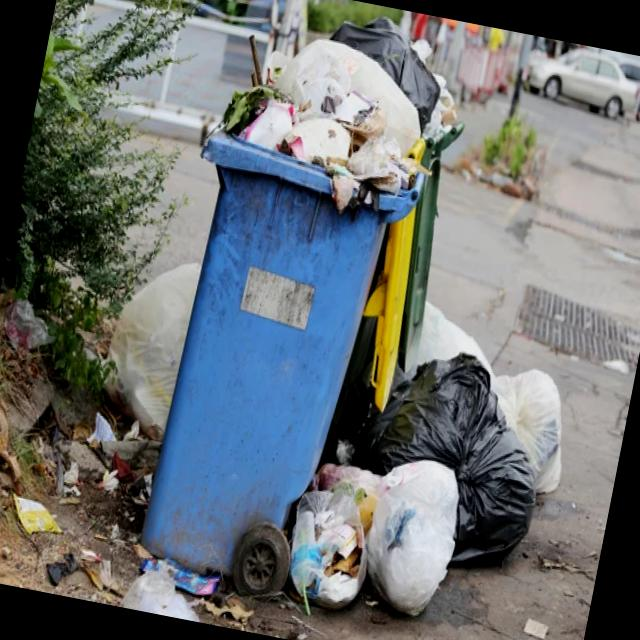garbage: (351, 311, 579, 640)
